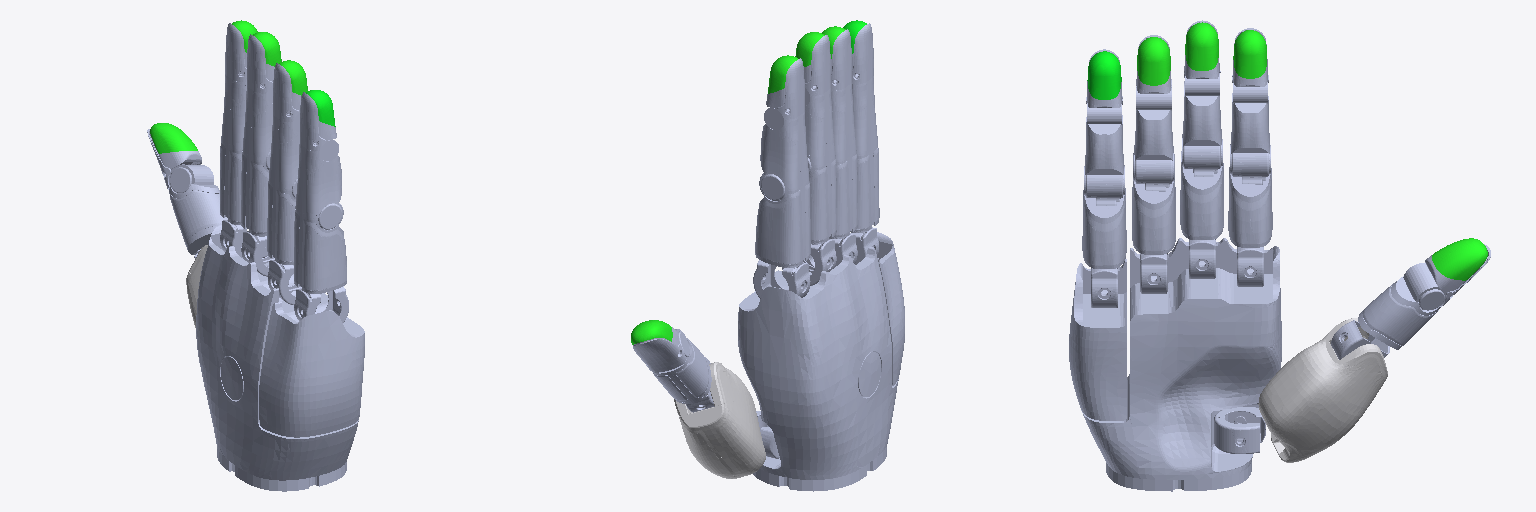
--- What the picture shows (computed from the rendered views, not written in the file) ---
3 views of the same robot in one strip: view 1: azimuth 30°, elevation 25°; view 2: azimuth 150°, elevation 25°; view 3: azimuth 270°, elevation 25° (orthographic).
Robot: Right_Sharpa_HA4 — 33 links, 32 joints (22 revolute, 10 fixed); root link right_hand_C_MC; default pose: every joint at zero.
Links seen in each view (by area): view 1: right_hand_C_MC, right_pinky_MC, right_pinky_PP, right_thumb_PP, right_pinky_MP, right_ring_PP, right_middle_PP, right_ring_MP, right_middle_MP, right_index_PP, right_index_MP, right_pinky_DP (+13 smaller); view 2: right_hand_C_MC, right_thumb_MC, right_index_PP, right_index_MP, right_pinky_MC, right_thumb_PP, right_middle_PP, right_middle_MP, right_pinky_PP, right_ring_PP, right_pinky_MP, right_ring_MP (+11 smaller); view 3: right_hand_C_MC, right_thumb_MC, right_pinky_MC, right_thumb_PP, right_ring_PP, right_index_PP, right_middle_PP, right_pinky_PP, right_pinky_MP, right_middle_MP, right_index_MP, right_ring_MP (+12 smaller).
Link boxes in pixels (box(x1,y1,x2,y2)): right_hand_C_MC: box(196, 225, 358, 491); right_pinky_MC: box(259, 302, 364, 437); right_pinky_PP: box(294, 203, 346, 293); right_thumb_PP: box(169, 164, 227, 254); right_pinky_MP: box(295, 140, 341, 219); right_ring_PP: box(267, 179, 297, 264); right_middle_PP: box(241, 151, 270, 236); right_ring_MP: box(269, 112, 299, 190); right_middle_MP: box(242, 84, 272, 162); right_index_PP: box(220, 141, 241, 224); right_index_MP: box(221, 72, 246, 150); right_pinky_DP: box(300, 92, 336, 150); right_hand_C_MC: box(738, 246, 898, 491); right_thumb_MC: box(674, 362, 765, 478); right_index_PP: box(755, 173, 810, 267); right_index_MP: box(760, 108, 808, 190); right_pinky_MC: box(861, 232, 904, 385); right_thumb_PP: box(653, 329, 711, 403); right_middle_PP: box(808, 156, 836, 244); right_middle_MP: box(805, 86, 835, 167); right_pinky_PP: box(850, 146, 879, 232); right_ring_PP: box(829, 151, 857, 238); right_pinky_MP: box(852, 74, 877, 155); right_ring_MP: box(831, 80, 856, 161); right_hand_C_MC: box(1081, 238, 1281, 491); right_thumb_MC: box(1258, 318, 1387, 462); right_pinky_MC: box(1069, 259, 1126, 420); right_thumb_PP: box(1358, 263, 1446, 349); right_ring_PP: box(1132, 153, 1175, 254); right_index_PP: box(1228, 153, 1272, 247); right_middle_PP: box(1180, 139, 1223, 239); right_pinky_PP: box(1082, 175, 1126, 268); right_pinky_MP: box(1084, 103, 1124, 174); right_middle_MP: box(1182, 73, 1221, 146); right_index_MP: box(1230, 82, 1270, 153); right_ring_MP: box(1134, 87, 1173, 160).
Size in the robot's own frame: 0.0587 by 0.1777 by 0.2038 metres.
Meshes: 13 distinct files referenced, 28 mesh visuals loaded (13 binary STL).

URDF robot description (Right_Sharpa_HA4):
<?xml version="1.0" encoding="utf-8"?>
<robot name="Right_Sharpa_HA4">
  <mujoco>
    <compiler meshdir="meshes" balanceinertia="true" discardvisual="false" />
  </mujoco>
  <link name="right_hand_C_MC">
    <inertial>
      <origin
        xyz="-0.00162604 0.00610333 0.0404204"
        rpy="0 0 0"
      />
      <mass value="0.72045" />
      <inertia
        ixx="0.000674254"
        ixy="9.18475E-06"
        ixz="5.27846E-06"
        iyy="0.000526267"
        iyz="-9.94356E-05"
        izz="0.000354154"
      />
    </inertial>
    <visual>
      <origin
        xyz="0 0 0"
        rpy="0 0 0"
      />
      <geometry>
        <mesh filename="package://right_sharpa_ha4/meshes/right_hand_C_MC_visual.STL" />
      </geometry>
      <material name="">
        <color rgba="0.79216 0.81961 0.93333 1" />
      </material>
    </visual>
    <collision>
      <origin
        xyz="0 0 0"
        rpy="0 0 0"
      />
      <geometry>
        <mesh filename="package://right_sharpa_ha4/meshes/right_hand_C_MC.STL" />
      </geometry>
    </collision>
  </link>
  <link name="right_thumb_CMC_VL">
    <inertial>
      <origin
        xyz="0 0 0"
        rpy="0 0 0"
      />
      <mass value="1.0E-06" />
      <inertia
        ixx="2.0E-12"
        ixy="0"
        ixz="0"
        iyy="2.0E-12"
        iyz="0"
        izz="2.0E-12"
      />
    </inertial>
    <visual>
      <origin
        xyz="0 0 0"
        rpy="0 0 0"
      />
      <geometry>
        <mesh filename="package://right_sharpa_ha4/meshes/right_thumb_CMC_VL_visual.STL" />
      </geometry>
      <material name="">
        <color rgba="0.79216 0.81961 0.93333 1" />
      </material>
    </visual>
  </link>
  <joint name="right_thumb_CMC_FE" type="revolute">
    <origin
      xyz="0.01 0.026 0.0212"
      rpy="3.1416 0 1.5708"
    />
    <parent link="right_hand_C_MC" />
    <child link="right_thumb_CMC_VL" />
    <axis xyz="0 0 1" />
    <limit lower="-0.1745" upper="1.9199" effort="3.3" velocity="11.84076833" />
  </joint>
  <link name="right_thumb_MC">
    <inertial>
      <origin
        xyz="0.0378875 -0.0105001 0.00999649"
        rpy="0 0 0"
      />
      <mass value="0.116" />
      <inertia
        ixx="1.66323E-05"
        ixy="-1.88321E-06"
        ixz="2.58404E-07"
        iyy="3.48775E-05"
        iyz="-2.19824E-06"
        izz="3.73623E-05"
      />
    </inertial>
    <visual>
      <origin
        xyz="0 0 0"
        rpy="0 0 0"
      />
      <geometry>
        <mesh filename="package://right_sharpa_ha4/meshes/right_thumb_MC_visual.STL" />
      </geometry>
      <material name="">
        <color rgba="0.8902 0.8902 0.91373 1" />
      </material>
    </visual>
    <collision>
      <origin
        xyz="0 0 0"
        rpy="0 0 0"
      />
      <geometry>
        <mesh filename="package://right_sharpa_ha4/meshes/right_thumb_MC.STL" />
      </geometry>
    </collision>
  </link>
  <joint name="right_thumb_CMC_AA" type="revolute">
    <origin
      xyz="0 -0.005 0"
      rpy="-1.5708 0.7854 0"
    />
    <parent link="right_thumb_CMC_VL" />
    <child link="right_thumb_MC" />
    <axis xyz="0 0 1" />
    <limit lower="-0.3491" upper="0.3491" effort="3.3" velocity="11.84076833" />
  </joint>
  <link name="right_thumb_MCP_VL">
    <inertial>
      <origin
        xyz="4.8E-09 0.000869809 -3.6E-09"
        rpy="0 0 0"
      />
      <mass value="1.0E-06" />
      <inertia
        ixx="2.0E-12"
        ixy="0"
        ixz="0"
        iyy="2.0E-12"
        iyz="0"
        izz="2.0E-12"
      />
    </inertial>
    <visual>
      <origin
        xyz="0 0 0"
        rpy="0 0 0"
      />
      <geometry>
        <mesh filename="package://right_sharpa_ha4/meshes/right_thumb_MCP_VL_visual.STL" />
      </geometry>
      <material name="">
        <color rgba="0.79216 0.81961 0.93333 1" />
      </material>
    </visual>
  </link>
  <joint name="right_thumb_MCP_FE" type="revolute">
    <origin
      xyz="0.065 -0.006 0.010392"
      rpy="0.5236 0 0"
    />
    <parent link="right_thumb_MC" />
    <child link="right_thumb_MCP_VL" />
    <axis xyz="0 0 1" />
    <limit lower="-0.5236" upper="1.3963" effort="1.864" velocity="16.07692878" />
  </joint>
  <link name="right_thumb_PP">
    <inertial>
      <origin
        xyz="0.0219649 -0.000155785 -0.00149071"
        rpy="0 0 0"
      />
      <mass value="0.04955" />
      <inertia
        ixx="2.61344E-06"
        ixy="3.70838E-09"
        ixz="1.82228E-07"
        iyy="4.6321E-06"
        iyz="3.55437E-10"
        izz="4.3756E-06"
      />
    </inertial>
    <visual>
      <origin
        xyz="0 0 0"
        rpy="0 0 0"
      />
      <geometry>
        <mesh filename="package://right_sharpa_ha4/meshes/right_thumb_PP_visual.STL" />
      </geometry>
      <material name="">
        <color rgba="0.79216 0.81961 0.93333 1" />
      </material>
    </visual>
    <collision>
      <origin
        xyz="0 0 0"
        rpy="0 0 0"
      />
      <geometry>
        <mesh filename="package://right_sharpa_ha4/meshes/right_thumb_PP.STL" />
      </geometry>
    </collision>
  </link>
  <joint name="right_thumb_MCP_AA" type="revolute">
    <origin
      xyz="0 0 0"
      rpy="-1.5708 0 0"
    />
    <parent link="right_thumb_MCP_VL" />
    <child link="right_thumb_PP" />
    <axis xyz="0 0 1" />
    <limit lower="-0.3491" upper="0.3491" effort="1.864" velocity="16.07692878" />
  </joint>
  <link name="right_thumb_DP">
    <inertial>
      <origin
        xyz="0.0151804 -0.00463639 8.34861E-07"
        rpy="0 0 0"
      />
      <mass value="0.003886" />
      <inertia
        ixx="1.32801E-07"
        ixy="4.59297E-08"
        ixz="-3.77372E-13"
        iyy="1.5797E-07"
        iyz="3.48732E-13"
        izz="1.50341E-07"
      />
    </inertial>
    <visual>
      <origin
        xyz="0 0 0"
        rpy="0 0 0"
      />
      <geometry>
        <mesh filename="package://right_sharpa_ha4/meshes/right_thumb_DP_visual.STL" />
      </geometry>
      <material name="">
        <color rgba="0.79216 0.81961 0.93333 1" />
      </material>
    </visual>
    <collision>
      <origin
        xyz="0 0 0"
        rpy="0 0 0"
      />
      <geometry>
        <mesh filename="package://right_sharpa_ha4/meshes/right_thumb_DP.STL" />
      </geometry>
    </collision>
  </link>
  <joint name="right_thumb_IP" type="revolute">
    <origin
      xyz="0.039 0 0"
      rpy="1.5708 0 0"
    />
    <parent link="right_thumb_PP" />
    <child link="right_thumb_DP" />
    <axis xyz="0 0 1" />
    <limit lower="0" upper="1.7453" effort="0.638" velocity="11.61831603" />
  </joint>
  <link name="right_thumb_elastomer">
    <inertial>
      <origin
        xyz="1.37353E-07 -0.0202873 0.00127072"
        rpy="0 0 0"
      />
      <mass value="0.002100" />
      <inertia
        ixx="6.4357E-08"
        ixy="-6.5027E-12"
        ixz="5.04872E-12"
        iyy="5.72112E-08"
        iyz="1.72427E-08"
        izz="7.47205E-08"
      />
    </inertial>
    <visual>
      <origin
        xyz="0 0 0"
        rpy="0 0 0"
      />
      <geometry>
        <mesh filename="package://right_sharpa_ha4/meshes/thumb_elastomer_surface.STL" />
      </geometry>
      <material name="">
        <color rgba="0.2 1 0.2 1" />
      </material>
    </visual>
    <collision>
      <origin
        xyz="0 0 0"
        rpy="0 0 0"
      />
      <geometry>
        <mesh filename="package://right_sharpa_ha4/meshes/thumb_elastomer.STL" />
      </geometry>
    </collision>
  </link>
  <joint name="right_thumb_elastomer_fix_joint" type="fixed">
    <origin
      xyz="0 0 0"
      rpy="1.5708 -1.5708 0"
    />
    <parent link="right_thumb_DP" />
    <child link="right_thumb_elastomer" />
    <axis xyz="0 0 0" />
  </joint>
  <link name="right_thumb_fingertip">
    <inertial>
      <origin
        xyz="0 0 0"
        rpy="0 0 0"
      />
      <mass value="1.0E-06" />
      <inertia
        ixx="2.0E-12"
        ixy="0"
        ixz="0"
        iyy="2.0E-12"
        iyz="0"
        izz="2.0E-12"
      />
    </inertial>
  </link>
  <joint name="right_thumb_fingertip_fix_joint" type="fixed">
    <origin
      xyz="0 -0.027611 0"
      rpy="1.5708 1.5708 0"
    />
    <parent link="right_thumb_elastomer" />
    <child link="right_thumb_fingertip" />
    <axis xyz="0 0 0" />
  </joint>
  <link name="right_index_MCP_VL">
    <inertial>
      <origin
        xyz="4.8E-09 0.00086981 -3.6E-09"
        rpy="0 0 0"
      />
      <mass value="1.0E-06" />
      <inertia
        ixx="2.0E-12"
        ixy="0"
        ixz="0"
        iyy="2.0E-12"
        iyz="0"
        izz="2.0E-12"
      />
    </inertial>
    <visual>
      <origin
        xyz="0 0 0"
        rpy="0 0 0"
      />
      <geometry>
        <mesh filename="package://right_sharpa_ha4/meshes/right_MCP_VL_visual.STL" />
      </geometry>
      <material name="">
        <color rgba="0.79216 0.81961 0.93333 1" />
      </material>
    </visual>
    <collision>
      <origin
        xyz="0 0 0"
        rpy="0 0 0"
      />
      <geometry>
        <mesh filename="package://right_sharpa_ha4/meshes/MCP_VL.STL" />
      </geometry>
    </collision>
  </link>
  <joint name="right_index_MCP_FE" type="revolute">
    <origin
      xyz="0.001 0.0303 0.0957"
      rpy="0 -1.5708 -1.5708"
    />
    <parent link="right_hand_C_MC" />
    <child link="right_index_MCP_VL" />
    <axis xyz="0 0 1" />
    <limit lower="-0.17453293" upper="1.5708" effort="1.864" velocity="16.07692878" />
  </joint>
  <link name="right_index_PP">
    <inertial>
      <origin
        xyz="0.0243772 1.00263E-06 -0.000755901"
        rpy="0 0 0"
      />
      <mass value="0.04138" />
      <inertia
        ixx="2.19643E-06"
        ixy="5.66246E-11"
        ixz="3.54371E-07"
        iyy="6.82371E-06"
        iyz="4.72597E-11"
        izz="6.51207E-06"
      />
    </inertial>
    <visual>
      <origin
        xyz="0 0 0"
        rpy="0 0 0"
      />
      <geometry>
        <mesh filename="package://right_sharpa_ha4/meshes/right_PP_visual.STL" />
      </geometry>
      <material name="">
        <color rgba="0.79216 0.81961 0.93333 1" />
      </material>
    </visual>
    <collision>
      <origin
        xyz="0 0 0"
        rpy="0 0 0"
      />
      <geometry>
        <mesh filename="package://right_sharpa_ha4/meshes/right_PP.STL" />
      </geometry>
    </collision>
  </link>
  <joint name="right_index_MCP_AA" type="revolute">
    <origin
      xyz="0 0 0"
      rpy="-1.5708 0 0"
    />
    <parent link="right_index_MCP_VL" />
    <child link="right_index_PP" />
    <axis xyz="0 0 1" />
    <limit lower="-0.3491" upper="0.3491" effort="1.864" velocity="16.07692878" />
  </joint>
  <link name="right_index_MP">
    <inertial>
      <origin
        xyz="0.015316 -0.00138561 6.28778E-08"
        rpy="0 0 0"
      />
      <mass value="0.02509" />
      <inertia
        ixx="1.00375E-06"
        ixy="-7.00445E-08"
        ixz="7.39473E-12"
        iyy="2.2637E-06"
        iyz="-2.27525E-12"
        izz="2.28516E-06"
      />
    </inertial>
    <visual>
      <origin
        xyz="0 0 0"
        rpy="0 0 0"
      />
      <geometry>
        <mesh filename="package://right_sharpa_ha4/meshes/right_MP_visual.STL" />
      </geometry>
      <material name="">
        <color rgba="0.79216 0.81961 0.93333 1" />
      </material>
    </visual>
    <collision>
      <origin
        xyz="0 0 0"
        rpy="0 0 0"
      />
      <geometry>
        <mesh filename="package://right_sharpa_ha4/meshes/right_MP.STL" />
      </geometry>
    </collision>
  </link>
  <joint name="right_index_PIP" type="revolute">
    <origin
      xyz="0.047 0 0"
      rpy="1.5708 0 0"
    />
    <parent link="right_index_PP" />
    <child link="right_index_MP" />
    <axis xyz="0 0 1" />
    <limit lower="0" upper="1.7453" effort="0.638" velocity="11.61831603" />
  </joint>
  <link name="right_index_DP">
    <inertial>
      <origin
        xyz="0.0127205 -0.00380991 -9.52663E-07"
        rpy="0 0 0"
      />
      <mass value="0.003002" />
      <inertia
        ixx="7.65598E-08"
        ixy="2.47622E-08"
        ixz="1.23922E-11"
        iyy="9.99792E-08"
        iyz="-4.16105E-12"
        izz="9.38245E-08"
      />
    </inertial>
    <visual>
      <origin
        xyz="0 0 0"
        rpy="0 0 0"
      />
      <geometry>
        <mesh filename="package://right_sharpa_ha4/meshes/right_DP_visual.STL" />
      </geometry>
      <material name="">
        <color rgba="0.79216 0.81961 0.93333 1" />
      </material>
    </visual>
    <collision>
      <origin
        xyz="0 0 0"
        rpy="0 0 0"
      />
      <geometry>
        <mesh filename="package://right_sharpa_ha4/meshes/right_DP.STL" />
      </geometry>
    </collision>
  </link>
  <joint name="right_index_DIP" type="revolute">
    <origin
      xyz="0.0315 0 0"
      rpy="0 0 0"
    />
    <parent link="right_index_MP" />
    <child link="right_index_DP" />
    <axis xyz="0 0 1" />
    <limit lower="0" upper="1.3963" effort="0.189369" velocity="14.66594768" />
  </joint>
  <link name="right_index_elastomer">
    <inertial>
      <origin
        xyz="-4.34641E-07 -0.0183002 0.000412898"
        rpy="0 0 0"
      />
      <mass value="0.00110" />
      <inertia
        ixx="2.54635E-08"
        ixy="1.30327E-12"
        ixz="-2.13894E-13"
        iyy="2.14666E-08"
        iyz="5.39858E-09"
        izz="2.96037E-08"
      />
    </inertial>
    <visual>
      <origin
        xyz="0 0 0"
        rpy="0 0 0"
      />
      <geometry>
        <mesh filename="package://right_sharpa_ha4/meshes/elastomer_surface.STL" />
      </geometry>
      <material name="">
        <color rgba="0.2 1 0.2 1" />
      </material>
    </visual>
    <collision>
      <origin
        xyz="0 0 0"
        rpy="0 0 0"
      />
      <geometry>
        <mesh filename="package://right_sharpa_ha4/meshes/elastomer.STL" />
      </geometry>
    </collision>
  </link>
  <joint name="right_index_elastomer_fix_joint" type="fixed">
    <origin
      xyz="0 0 0"
      rpy="1.5708 -1.5708 0"
    />
    <parent link="right_index_DP" />
    <child link="right_index_elastomer" />
    <axis xyz="0 0 0" />
  </joint>
  <link name="right_index_fingertip">
    <inertial>
      <origin
        xyz="0.0 0.0 0.0"
        rpy="0 0 0"
      />
      <mass value="1.0E-06" />
      <inertia
        ixx="2.0E-12"
        ixy="0"
        ixz="0"
        iyy="2.0E-12"
        iyz="0"
        izz="2.0E-12"
      />
    </inertial>
  </link>
  <joint name="right_index_fingertip_fix_joint" type="fixed">
    <origin
      xyz="0 -0.026009 0"
      rpy="1.5708 1.5708 0"
    />
    <parent link="right_index_elastomer" />
    <child link="right_index_fingertip" />
    <axis xyz="0 0 0" />
  </joint>
  <link name="right_middle_MCP_VL">
    <inertial>
      <origin
        xyz="0.0 0.0 -0.0"
        rpy="0 0 0"
      />
      <mass value="1.0E-06" />
      <inertia
        ixx="2.0E-12"
        ixy="0"
        ixz="0"
        iyy="2.0E-12"
        iyz="0"
        izz="2.0E-12"
      />
    </inertial>
    <visual>
      <origin
        xyz="0 0 0"
        rpy="0 0 0"
      />
      <geometry>
        <mesh filename="package://right_sharpa_ha4/meshes/right_MCP_VL_visual.STL" />
      </geometry>
      <material name="">
        <color rgba="0.79216 0.81961 0.93333 1" />
      </material>
    </visual>
    <collision>
      <origin
        xyz="0 0 0"
        rpy="0 0 0"
      />
      <geometry>
        <mesh filename="package://right_sharpa_ha4/meshes/MCP_VL.STL" />
      </geometry>
    </collision>
  </link>
  <joint name="right_middle_MCP_FE" type="revolute">
    <origin
      xyz="0 0.01 0.0987"
      rpy="0 -1.5708 -1.5708"
    />
    <parent link="right_hand_C_MC" />
    <child link="right_middle_MCP_VL" />
    <axis xyz="0 0 1" />
    <limit lower="-0.17453293" upper="1.5708" effort="1.864" velocity="16.07692878" />
  </joint>
  <link name="right_middle_PP">
    <inertial>
      <origin
        xyz="0.0243772 1.00263E-06 -0.000755901"
        rpy="0 0 0"
      />
      <mass value="0.04138" />
      <inertia
        ixx="2.19643E-06"
        ixy="5.66246E-11"
        ixz="3.54371E-07"
        iyy="6.82371E-06"
        iyz="4.72597E-11"
        izz="6.51207E-06"
      />
    </inertial>
    <visual>
      <origin
        xyz="0 0 0"
        rpy="0 0 0"
      />
      <geometry>
        <mesh filename="package://right_sharpa_ha4/meshes/right_PP_visual.STL" />
      </geometry>
      <material name="">
        <color rgba="0.79216 0.81961 0.93333 1" />
      </material>
    </visual>
    <collision>
      <origin
        xyz="0 0 0"
        rpy="0 0 0"
      />
      <geometry>
        <mesh filename="package://right_sharpa_ha4/meshes/right_PP.STL" />
      </geometry>
    </collision>
  </link>
  <joint name="right_middle_MCP_AA" type="revolute">
    <origin
      xyz="0 0 0"
      rpy="-1.5708 0 0"
    />
    <parent link="right_middle_MCP_VL" />
    <child link="right_middle_PP" />
    <axis xyz="0 0 1" />
    <limit lower="-0.3491" upper="0.3491" effort="1.864" velocity="16.07692878" />
  </joint>
  <link name="right_middle_MP">
    <inertial>
      <origin
        xyz="0.015316 -0.00138561 6.28778E-08"
        rpy="0 0 0"
      />
      <mass value="0.02509" />
      <inertia
        ixx="1.00375E-06"
        ixy="-7.00445E-08"
        ixz="7.39473E-12"
        iyy="2.2637E-06"
        iyz="-2.27525E-12"
        izz="2.28516E-06"
      />
    </inertial>
    <visual>
      <origin
        xyz="0 0 0"
        rpy="0 0 0"
      />
      <geometry>
        <mesh filename="package://right_sharpa_ha4/meshes/right_MP_visual.STL" />
      </geometry>
      <material name="">
        <color rgba="0.79216 0.81961 0.93333 1" />
      </material>
    </visual>
    <collision>
      <origin
        xyz="0 0 0"
        rpy="0 0 0"
      />
      <geometry>
        <mesh filename="package://right_sharpa_ha4/meshes/right_MP.STL" />
      </geometry>
    </collision>
  </link>
  <joint name="right_middle_PIP" type="revolute">
    <origin
      xyz="0.047 0 0"
      rpy="1.5708 0 0"
    />
    <parent link="right_middle_PP" />
    <child link="right_middle_MP" />
    <axis xyz="0 0 1" />
    <limit lower="0" upper="1.7453" effort="0.638" velocity="11.61831603" />
  </joint>
  <link name="right_middle_DP">
    <inertial>
      <origin
        xyz="0.0127205 -0.00380991 -9.52663E-07"
        rpy="0 0 0"
      />
      <mass value="0.003002" />
      <inertia
        ixx="7.65598E-08"
        ixy="2.47622E-08"
        ixz="1.23922E-11"
        iyy="9.99792E-08"
        iyz="-4.16105E-12"
        izz="9.38245E-08"
      />
    </inertial>
    <visual>
      <origin
        xyz="0 0 0"
        rpy="0 0 0"
      />
      <geometry>
        <mesh filename="package://right_sharpa_ha4/meshes/right_DP_visual.STL" />
      </geometry>
      <material name="">
        <color rgba="0.79216 0.81961 0.93333 1" />
      </material>
    </visual>
    <collision>
      <origin
        xyz="0 0 0"
        rpy="0 0 0"
      />
      <geometry>
        <mesh filename="package://right_sharpa_ha4/meshes/right_DP.STL" />
      </geometry>
    </collision>
  </link>
  <joint name="right_middle_DIP" type="revolute">
    <origin
      xyz="0.0315 0 0"
      rpy="0 0 0"
    />
    <parent link="right_middle_MP" />
    <child link="right_middle_DP" />
    <axis xyz="0 0 1" />
    <limit lower="0" upper="1.3963" effort="0.189369" velocity="14.66594768" />
  </joint>
  <link name="right_middle_elastomer">
    <inertial>
      <origin
        xyz="-4.34641E-07 -0.0183002 0.000412898"
        rpy="0 0 0"
      />
      <mass value="0.00110" />
      <inertia
        ixx="2.54635E-08"
        ixy="1.30327E-12"
        ixz="-2.13894E-13"
        iyy="2.14666E-08"
        iyz="5.39858E-09"
        izz="2.96037E-08"
      />
    </inertial>
    <visual>
      <origin
        xyz="0 0 0"
        rpy="0 0 0"
      />
      <geometry>
        <mesh filename="package://right_sharpa_ha4/meshes/elastomer_surface.STL" />
      </geometry>
      <material name="">
        <color rgba="0.2 1 0.2 1" />
      </material>
    </visual>
    <collision>
      <origin
        xyz="0 0 0"
        rpy="0 0 0"
      />
      <geometry>
        <mesh filename="package://right_sharpa_ha4/meshes/elastomer.STL" />
      </geometry>
    </collision>
  </link>
  <joint name="right_middle_elastomer_fix_joint" type="fixed">
    <origin
      xyz="0 0 0"
      rpy="1.5707963267949 -1.5707963267949 0"
    />
    <parent link="right_middle_DP" />
    <child link="right_middle_elastomer" />
    <axis xyz="0 0 0" />
  </joint>
  <link name="right_middle_fingertip">
    <inertial>
      <origin
        xyz="0.0 0.0 0.0"
        rpy="0 0 0"
      />
      <mass value="1.0E-06" />
      <inertia
        ixx="2.0E-12"
        ixy="0"
        ixz="0"
        iyy="2.0E-12"
        iyz="0"
        izz="2.0E-12"
      />
    </inertial>
  </link>
  <joint name="right_middle_fingertip_fix_joint" type="fixed">
    <origin
      xyz="0 -0.0260092574262507 0"
      rpy="1.5707963267949 1.5707963267949 0"
    />
    <parent link="right_middle_elastomer" />
    <child link="right_middle_fingertip" />
    <axis xyz="0 0 0" />
  </joint>
  <link name="right_ring_MCP_VL">
    <inertial>
      <origin
        xyz="4.8E-09 0.00086981 -3.6E-09"
        rpy="0 0 0"
      />
      <mass value="1.0E-06" />
      <inertia
        ixx="2.0E-12"
        ixy="0"
        ixz="0"
        iyy="2.0E-12"
        iyz="0"
        izz="2.0E-12"
      />
    </inertial>
    <visual>
      <origin
        xyz="0 0 0"
        rpy="0 0 0"
      />
      <geometry>
        <mesh filename="package://right_sharpa_ha4/meshes/right_MCP_VL_visual.STL" />
      </geometry>
      <material name="">
        <color rgba="0.79216 0.81961 0.93333 1" />
      </material>
    </visual>
    <collision>
      <origin
        xyz="0 0 0"
        rpy="0 0 0"
      />
      <geometry>
        <mesh filename="package://right_sharpa_ha4/meshes/MCP_VL.STL" />
      </geometry>
    </collision>
  </link>
  <joint name="right_ring_MCP_FE" type="revolute">
    <origin
      xyz="0.0015 -0.0103 0.0927"
      rpy="0 -1.5708 -1.5708"
    />
    <parent link="right_hand_C_MC" />
    <child link="right_ring_MCP_VL" />
    <axis xyz="0 0 1" />
    <limit lower="-0.17453293" upper="1.5708" effort="1.864" velocity="16.07692878" />
  </joint>
  <link name="right_ring_PP">
    <inertial>
      <origin
        xyz="0.0243772 1.00263E-06 -0.000755901"
        rpy="0 0 0"
      />
      <mass value="0.04138" />
      <inertia
        ixx="2.19643E-06"
        ixy="5.66246E-11"
        ixz="3.54371E-07"
        iyy="6.82371E-06"
        iyz="4.72597E-11"
        izz="6.51207E-06"
      />
    </inertial>
    <visual>
      <origin
        xyz="0 0 0"
        rpy="0 0 0"
      />
      <geometry>
        <mesh filename="package://right_sharpa_ha4/meshes/right_PP_visual.STL" />
      </geometry>
      <material name="">
        <color rgba="0.79216 0.81961 0.93333 1" />
      </material>
    </visual>
    <collision>
      <origin
        xyz="0 0 0"
        rpy="0 0 0"
      />
      <geometry>
        <mesh filename="package://right_sharpa_ha4/meshes/right_PP.STL" />
      </geometry>
    </collision>
  </link>
  <joint name="right_ring_MCP_AA" type="revolute">
    <origin
      xyz="0 0 0"
      rpy="-1.5708 0 0"
    />
    <parent link="right_ring_MCP_VL" />
    <child link="right_ring_PP" />
    <axis xyz="0 0 1" />
    <limit lower="-0.3491" upper="0.3491" effort="1.864" velocity="16.07692878" />
  </joint>
  <link name="right_ring_MP">
    <inertial>
      <origin
        xyz="0.015316 -0.00138561 6.28778E-08"
        rpy="0 0 0"
      />
      <mass value="0.02509" />
      <inertia
        ixx="1.00375E-06"
        ixy="-7.00445E-08"
        ixz="7.39473E-12"
        iyy="2.2637E-06"
        iyz="-2.27525E-12"
        izz="2.28516E-06"
      />
    </inertial>
    <visual>
      <origin
        xyz="0 0 0"
        rpy="0 0 0"
      />
      <geometry>
        <mesh filename="package://right_sharpa_ha4/meshes/right_MP_visual.STL" />
      </geometry>
      <material name="">
        <color rgba="0.79216 0.81961 0.93333 1" />
      </material>
    </visual>
    <collision>
      <origin
        xyz="0 0 0"
        rpy="0 0 0"
      />
      <geometry>
        <mesh filename="package://right_sharpa_ha4/meshes/right_MP.STL" />
      </geometry>
    </collision>
  </link>
  <joint name="right_ring_PIP" type="revolute">
    <origin
      xyz="0.047 0 0"
      rpy="1.5708 0 0"
    />
    <parent link="right_ring_PP" />
    <child link="right_ring_MP" />
    <axis xyz="0 0 1" />
    <limit lower="0" upper="1.7453" effort="0.638" velocity="11.61831603" />
  </joint>
  <link name="right_ring_DP">
    <inertial>
      <origin
        xyz="0.0127205 -0.00380991 -9.52663E-07"
        rpy="0 0 0"
      />
      <mass value="0.003002" />
      <inertia
        ixx="7.65598E-08"
        ixy="2.47622E-08"
        ixz="1.23922E-11"
        iyy="9.99792E-08"
        iyz="-4.16105E-12"
        izz="9.38245E-08"
      />
    </inertial>
    <visual>
      <origin
        xyz="0 0 0"
        rpy="0 0 0"
      />
      <geometry>
        <mesh filename="package://right_sharpa_ha4/meshes/right_DP_visual.STL" />
      </geometry>
      <material name="">
        <color rgba="0.79216 0.81961 0.93333 1" />
      </material>
    </visual>
    <collision>
      <origin
        xyz="0 0 0"
        rpy="0 0 0"
      />
      <geometry>
        <mesh filename="package://right_sharpa_ha4/meshes/right_DP.STL" />
      </geometry>
    </collision>
  </link>
  <joint name="right_ring_DIP" type="revolute">
    <origin
      xyz="0.0315 0 0"
      rpy="0 0 0"
    />
    <parent link="right_ring_MP" />
    <child link="right_ring_DP" />
    <axis xyz="0 0 1" />
    <limit lower="0" upper="1.3963" effort="0.189369" velocity="14.66594768" />
  </joint>
  <link name="right_ring_elastomer">
    <inertial>
      <origin
        xyz="-4.34641E-07 -0.0183002 0.000412898"
        rpy="0 0 0"
      />
      <mass value="0.00110" />
      <inertia
        ixx="2.54635E-08"
        ixy="1.30327E-12"
        ixz="-2.13894E-13"
        iyy="2.14666E-08"
        iyz="5.39858E-09"
        izz="2.96037E-08"
      />
    </inertial>
    <visual>
      <origin
        xyz="0 0 0"
        rpy="0 0 0"
      />
      <geometry>
        <mesh filename="package://right_sharpa_ha4/meshes/elastomer_surface.STL" />
      </geometry>
      <material name="">
        <color rgba="0.2 1 0.2 1" />
      </material>
    </visual>
    <collision>
      <origin
        xyz="0 0 0"
        rpy="0 0 0"
      />
      <geometry>
        <mesh filename="package://right_sharpa_ha4/meshes/elastomer.STL" />
      </geometry>
    </collision>
  </link>
  <joint name="right_ring_elastomer_fix_joint" type="fixed">
    <origin
      xyz="0 0 0"
      rpy="1.5708 -1.5708 0"
    />
    <parent link="right_ring_DP" />
    <child link="right_ring_elastomer" />
    <axis xyz="0 0 0" />
  </joint>
  <link name="right_ring_fingertip">
    <inertial>
      <origin
        xyz="0.0 0.0 0.0"
        rpy="0 0 0"
      />
      <mass value="1.0E-06" />
      <inertia
        ixx="2.0E-12"
        ixy="0"
        ixz="0"
        iyy="2.0E-12"
        iyz="0"
        izz="2.0E-12"
      />
    </inertial>
  </link>
  <joint name="right_ring_fingertip_fix_joint" type="fixed">
    <origin
      xyz="0 -0.0260092574262503 0"
      rpy="1.5707963267949 1.5707963267949 0"
    />
    <parent link="right_ring_elastomer" />
    <child link="right_ring_fingertip" />
    <axis xyz="0 0 0" />
  </joint>
  <link name="right_pinky_MC">
    <inertial>
      <origin
        xyz="0.0107985 0.00598801 -0.0335125"
        rpy="0 0 0"
      />
      <mass value="0.12541" />
      <inertia
        ixx="2.44379E-05"
        ixy="3.62784E-07"
        ixz="8.00221E-07"
        iyy="3.57429E-05"
        iyz="-4.68085E-07"
        izz="2.16786E-05"
      />
    </inertial>
    <visual>
      <origin
        xyz="0 0 0"
        rpy="0 0 0"
      />
      <geometry>
        <mesh filename="package://right_sharpa_ha4/meshes/right_pinky_MC_visual.STL" />
      </geometry>
      <material name="">
        <color rgba="0.79216 0.81961 0.93333 1" />
      </material>
    </visual>
    <collision>
      <origin
        xyz="0 0 0"
        rpy="0 0 0"
      />
      <geometry>
        <mesh filename="package://right_sharpa_ha4/meshes/right_pinky_MC.STL" />
      </geometry>
    </collision>
  </link>
  <joint name="right_pinky_CMC" type="revolute">
    <origin
      xyz="0.01136 -0.0263 0.0867"
      rpy="0 0 3.1416"
    />
    <parent link="right_hand_C_MC" />
    <child link="right_pinky_MC" />
    <axis xyz="0 0 1" />
    <limit lower="0" upper="0.2618" effort="0.5285" velocity="35.07416159" />
  </joint>
  <link name="right_pinky_MCP_VL">
    <inertial>
      <origin
        xyz="4.8E-09 0.00086981 -3.6E-09"
        rpy="0 0 0"
      />
      <mass value="1.0E-06" />
      <inertia
        ixx="2.0E-12"
        ixy="0"
        ixz="0"
        iyy="2.0E-12"
        iyz="0"
        izz="2.0E-12"
      />
    </inertial>
    <visual>
      <origin
        xyz="0 0 0"
        rpy="0 0 0"
      />
      <geometry>
        <mesh filename="package://right_sharpa_ha4/meshes/right_MCP_VL_visual.STL" />
      </geometry>
      <material name="">
        <color rgba="0.79216 0.81961 0.93333 1" />
      </material>
    </visual>
    <collision>
      <origin
        xyz="0 0 0"
        rpy="0 0 0"
      />
      <geometry>
        <mesh filename="package://right_sharpa_ha4/meshes/MCP_VL.STL" />
      </geometry>
    </collision>
  </link>
  <joint name="right_pinky_MCP_FE" type="revolute">
    <origin
      xyz="0.00836 0.0048 0"
      rpy="1.5708 -1.5708 0"
    />
    <parent link="right_pinky_MC" />
    <child link="right_pinky_MCP_VL" />
    <axis xyz="0 0 1" />
    <limit lower="-0.17453293" upper="1.5708" effort="1.864" velocity="16.07692878" />
  </joint>
  <link name="right_pinky_PP">
    <inertial>
      <origin
        xyz="0.0243772 1.00263E-06 -0.000755901"
        rpy="0 0 0"
      />
      <mass value="0.04138" />
      <inertia
        ixx="2.19643E-06"
        ixy="5.66246E-11"
        ixz="3.54371E-07"
        iyy="6.82371E-06"
        iyz="4.72597E-11"
        izz="6.51207E-06"
      />
    </inertial>
    <visual>
      <origin
        xyz="0 0 0"
        rpy="0 0 0"
      />
      <geometry>
        <mesh filename="package://right_sharpa_ha4/meshes/right_PP_visual.STL" />
      </geometry>
      <material name="">
        <color rgba="0.79216 0.81961 0.93333 1" />
      </material>
    </visual>
    <collision>
      <origin
        xyz="0 0 0"
        rpy="0 0 0"
      />
      <geometry>
        <mesh filename="package://right_sharpa_ha4/meshes/right_PP.STL" />
      </geometry>
    </collision>
  </link>
  <joint name="right_pinky_MCP_AA" type="revolute">
    <origin
      xyz="0 0 0"
      rpy="-1.5708 0 0"
    />
    <parent link="right_pinky_MCP_VL" />
    <child link="right_pinky_PP" />
    <axis xyz="0 0 1" />
    <limit lower="-0.3491" upper="0.3491" effort="1.864" velocity="16.07692878" />
  </joint>
  <link name="right_pinky_MP">
    <inertial>
      <origin
        xyz="0.015316 -0.00138561 6.28778E-08"
        rpy="0 0 0"
      />
      <mass value="0.02509" />
      <inertia
        ixx="1.00375E-06"
        ixy="-7.00445E-08"
        ixz="7.39473E-12"
        iyy="2.2637E-06"
        iyz="-2.27525E-12"
        izz="2.28516E-06"
      />
    </inertial>
    <visual>
      <origin
        xyz="0 0 0"
        rpy="0 0 0"
      />
      <geometry>
        <mesh filename="package://right_sharpa_ha4/meshes/right_MP_visual.STL" />
      </geometry>
      <material name="">
        <color rgba="0.79216 0.81961 0.93333 1" />
      </material>
    </visual>
    <collision>
      <origin
        xyz="0 0 0"
        rpy="0 0 0"
      />
      <geometry>
        <mesh filename="package://right_sharpa_ha4/meshes/right_MP.STL" />
      </geometry>
    </collision>
  </link>
  <joint name="right_pinky_PIP" type="revolute">
    <origin
      xyz="0.047 0 0"
      rpy="1.5708 0 0"
    />
    <parent link="right_pinky_PP" />
    <child link="right_pinky_MP" />
    <axis xyz="0 0 1" />
    <limit lower="0" upper="1.7453" effort="0.638" velocity="11.61831603" />
  </joint>
  <link name="right_pinky_DP">
    <inertial>
      <origin
        xyz="0.0127205 -0.00380991 -9.52663E-07"
        rpy="0 0 0"
      />
      <mass value="0.003002" />
      <inertia
        ixx="7.65598E-08"
        ixy="2.47622E-08"
        ixz="1.23922E-11"
        iyy="9.99792E-08"
        iyz="-4.16105E-12"
        izz="9.38245E-08"
      />
    </inertial>
    <visual>
      <origin
        xyz="0 0 0"
        rpy="0 0 0"
      />
      <geometry>
        <mesh filename="package://right_sharpa_ha4/meshes/right_DP_visual.STL" />
      </geometry>
      <material name="">
        <color rgba="0.79216 0.81961 0.93333 1" />
      </material>
    </visual>
    <collision>
      <origin
        xyz="0 0 0"
        rpy="0 0 0"
      />
      <geometry>
        <mesh filename="package://right_sharpa_ha4/meshes/right_DP.STL" />
      </geometry>
    </collision>
  </link>
  <joint name="right_pinky_DIP" type="revolute">
    <origin
      xyz="0.0315 0 0"
      rpy="0 0 0"
    />
    <parent link="right_pinky_MP" />
    <child link="right_pinky_DP" />
    <axis xyz="0 0 1" />
    <limit lower="0" upper="1.3963" effort="0.189369" velocity="14.66594768" />
  </joint>
  <link name="right_pinky_elastomer">
    <inertial>
      <origin
        xyz="-4.34641E-07 -0.0183002 0.000412898"
        rpy="0 0 0"
      />
      <mass value="0.00110" />
      <inertia
        ixx="2.54635E-08"
        ixy="1.30327E-12"
        ixz="-2.13894E-13"
        iyy="2.14666E-08"
        iyz="5.39858E-09"
        izz="2.96037E-08"
      />
    </inertial>
    <visual>
      <origin
        xyz="0 0 0"
        rpy="0 0 0"
      />
      <geometry>
        <mesh filename="package://right_sharpa_ha4/meshes/elastomer_surface.STL" />
      </geometry>
      <material name="">
        <color rgba="0.1 1 0.2 1" />
      </material>
    </visual>
    <collision>
      <origin
        xyz="0 0 0"
        rpy="0 0 0"
      />
      <geometry>
        <mesh filename="package://right_sharpa_ha4/meshes/elastomer.STL" />
      </geometry>
    </collision>
  </link>
  <joint name="right_pinky_elastomer_fix_joint" type="fixed">
    <origin
      xyz="0 0 0"
      rpy="1.5708 -1.5708 0"
    />
    <parent link="right_pinky_DP" />
    <child link="right_pinky_elastomer" />
    <axis xyz="0 0 0" />
  </joint>
  <link name="right_pinky_fingertip">
    <inertial>
      <origin
        xyz="0.0 0.0 0.0"
        rpy="0 0 0"
      />
      <mass value="1.0E-06" />
      <inertia
        ixx="2.0E-12"
        ixy="0"
        ixz="0"
        iyy="2.0E-12"
        iyz="0"
        izz="2.0E-12"
      />
    </inertial>
  </link>
  <joint name="right_pinky_fingertip_fix_joint" type="fixed">
    <origin
      xyz="0 -0.026009 0"
      rpy="1.5708 1.5708 0"
    />
    <parent link="right_pinky_elastomer" />
    <child link="right_pinky_fingertip" />
    <axis xyz="0 0 0" />
  </joint>
</robot>
